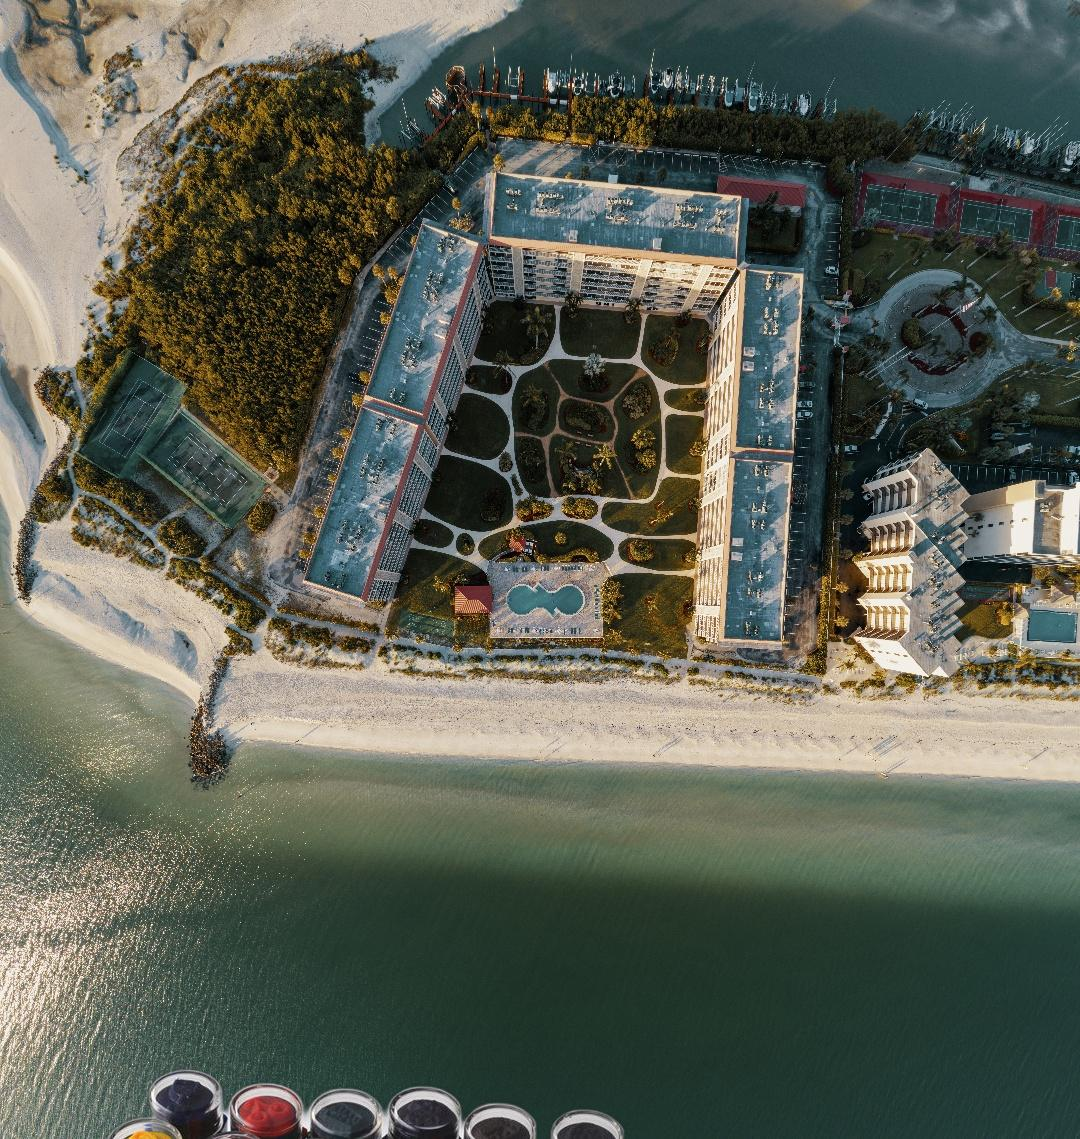penholder: (98, 1063, 635, 1139)
